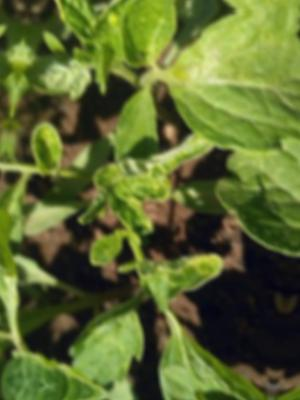Tomato leaf mosaic virus: (159, 9, 300, 160), (79, 118, 217, 244), (68, 280, 156, 397), (115, 233, 240, 309), (101, 83, 185, 187), (113, 0, 187, 77), (23, 44, 97, 105), (19, 114, 78, 181), (47, 0, 115, 47)
